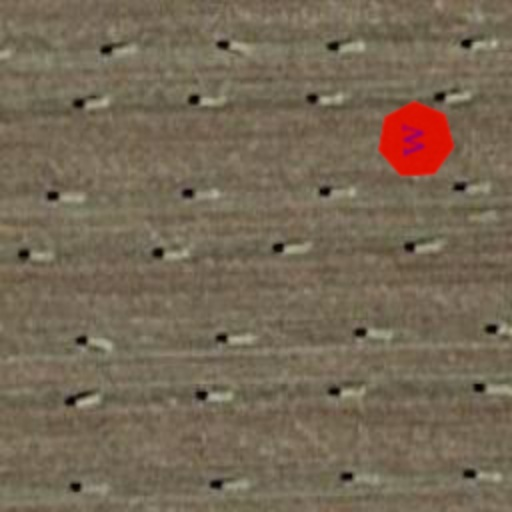heptagon: (374, 98, 458, 182)
